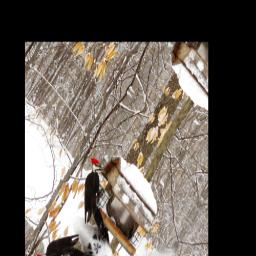Woodpecker: (66, 153, 129, 246)
